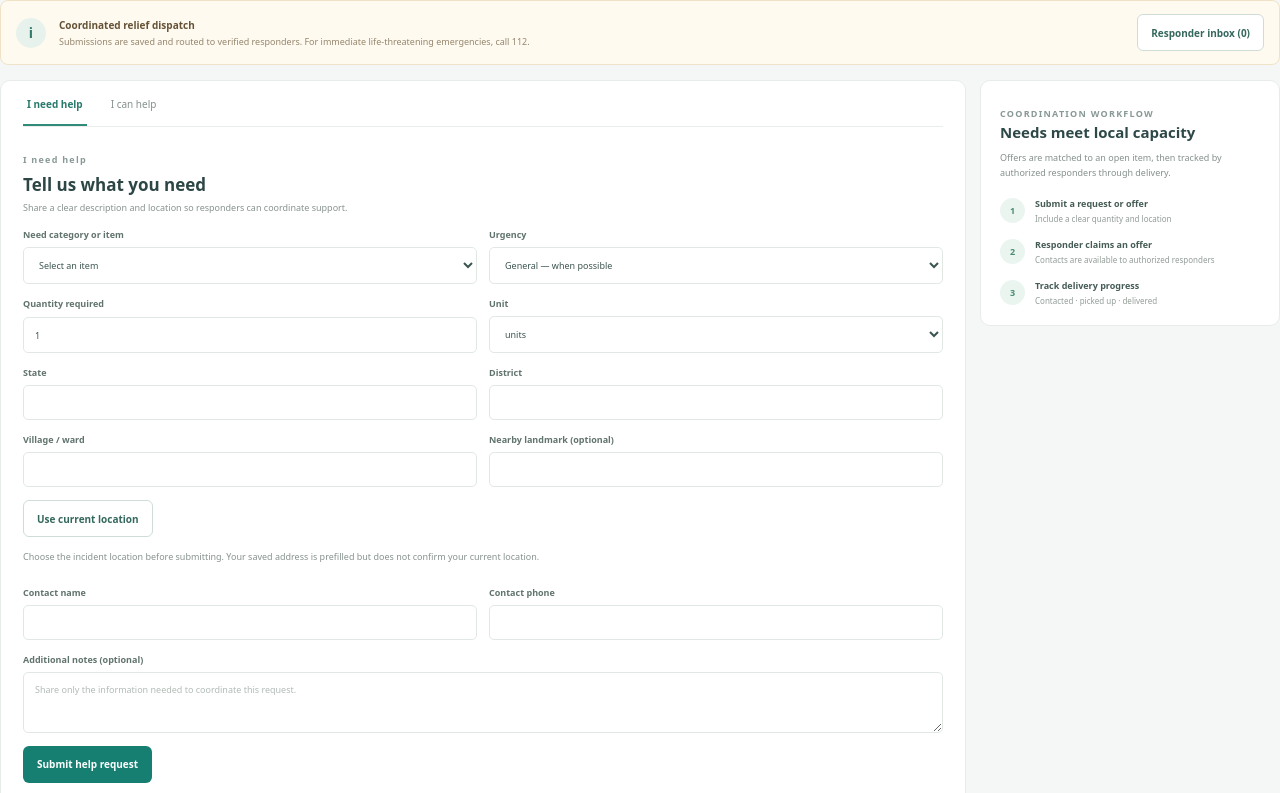
community support coordination › submits a geocoded, quantity-bearing help request
Select "Drinking Water" in the dropdown labelled "Need category or item" at coordinates (250, 266), box [23, 247, 477, 284]
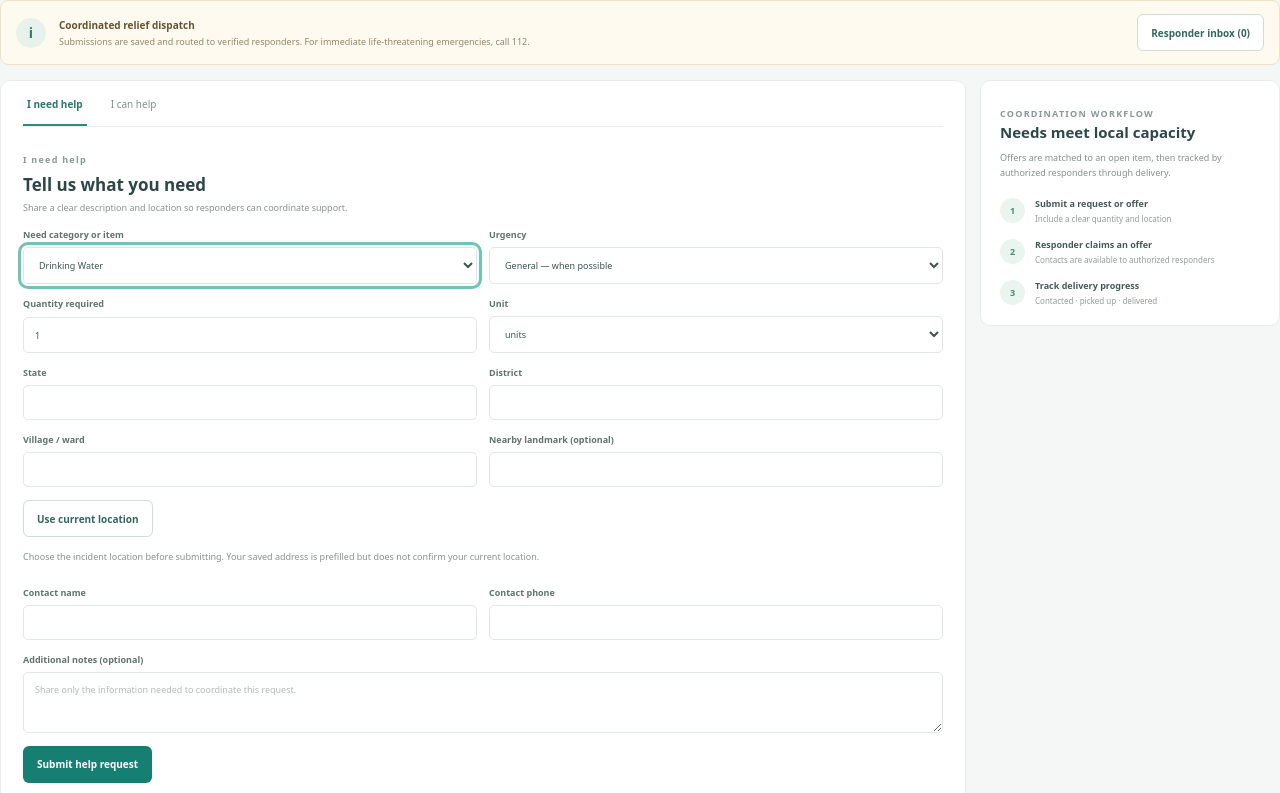
Click the button "Use current location" at coordinates (88, 518), box [23, 500, 153, 537]
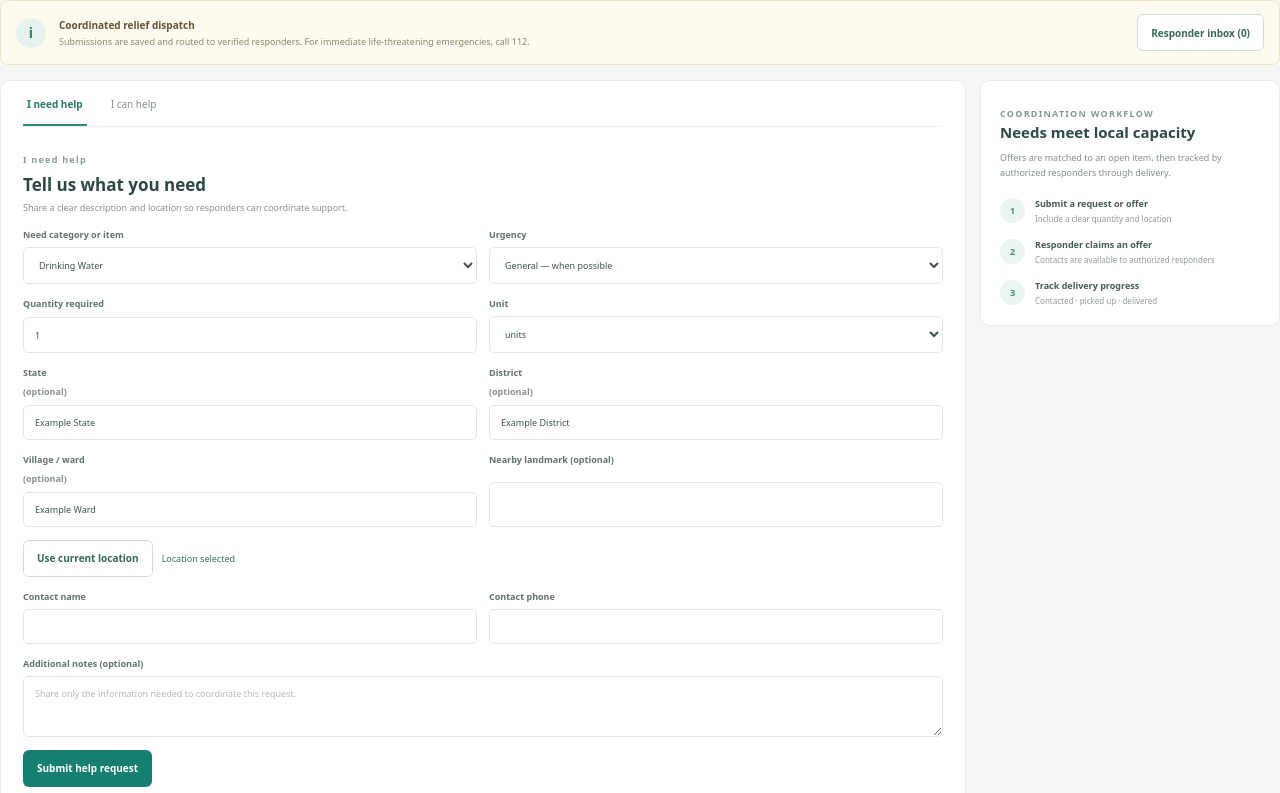
Expected: the field labelled "State" holds "Example State", [23, 405, 477, 440]
Expected: the field labelled "District" holds "Example District", [489, 405, 943, 440]
Expected: the field labelled "Village / ward" holds "Example Ward", [23, 492, 477, 527]
Type "Requester" into the field labelled "Contact name" at coordinates (250, 626), box [23, 609, 477, 644]
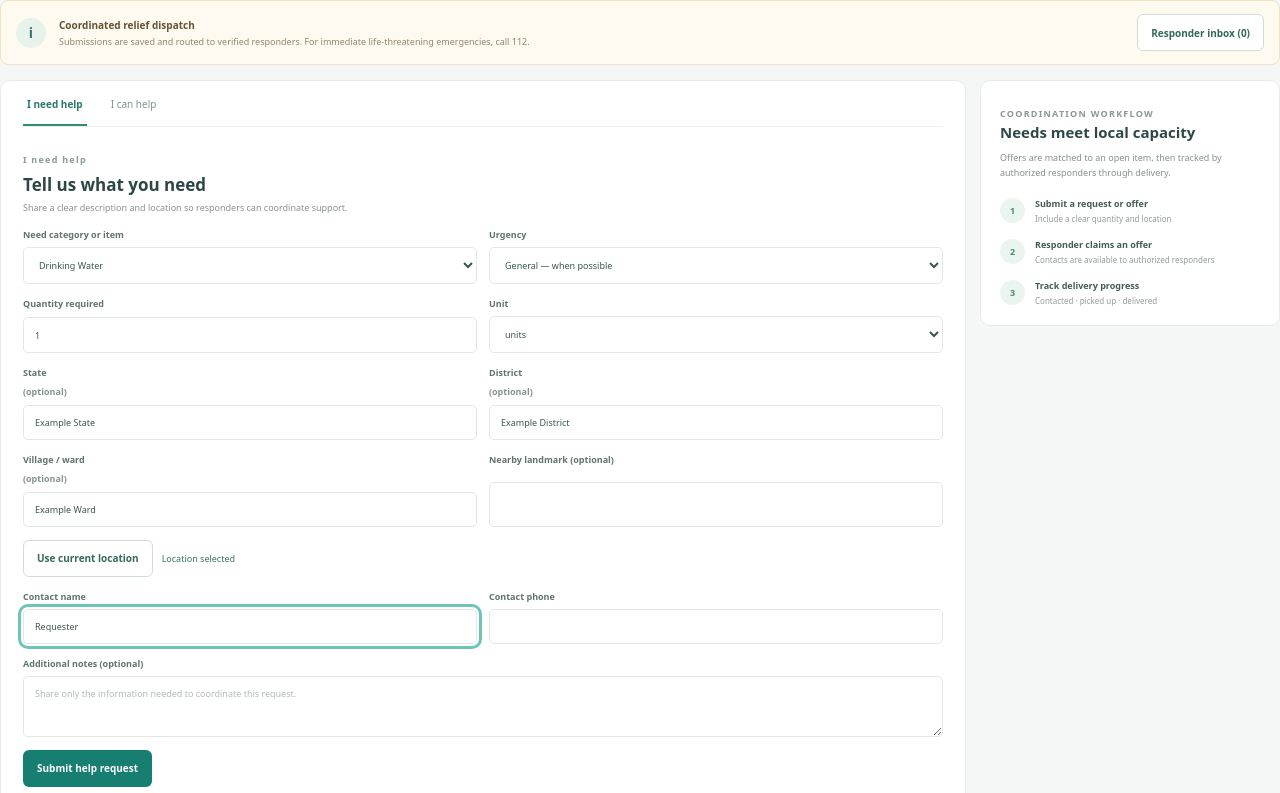
Type "+911234567890" into the field labelled "Contact phone" at coordinates (716, 626), box [489, 609, 943, 644]
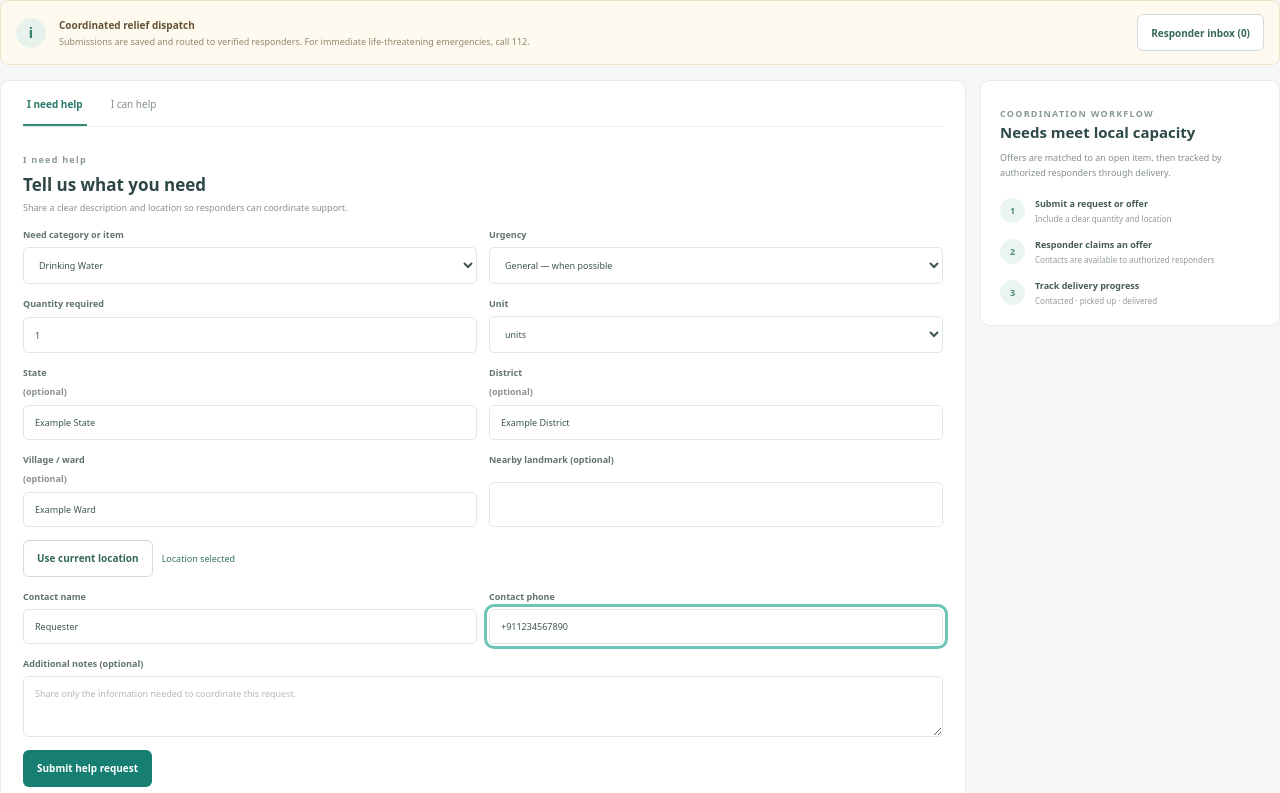
Click the button "Submit help request" at coordinates (88, 768), box [23, 750, 152, 787]
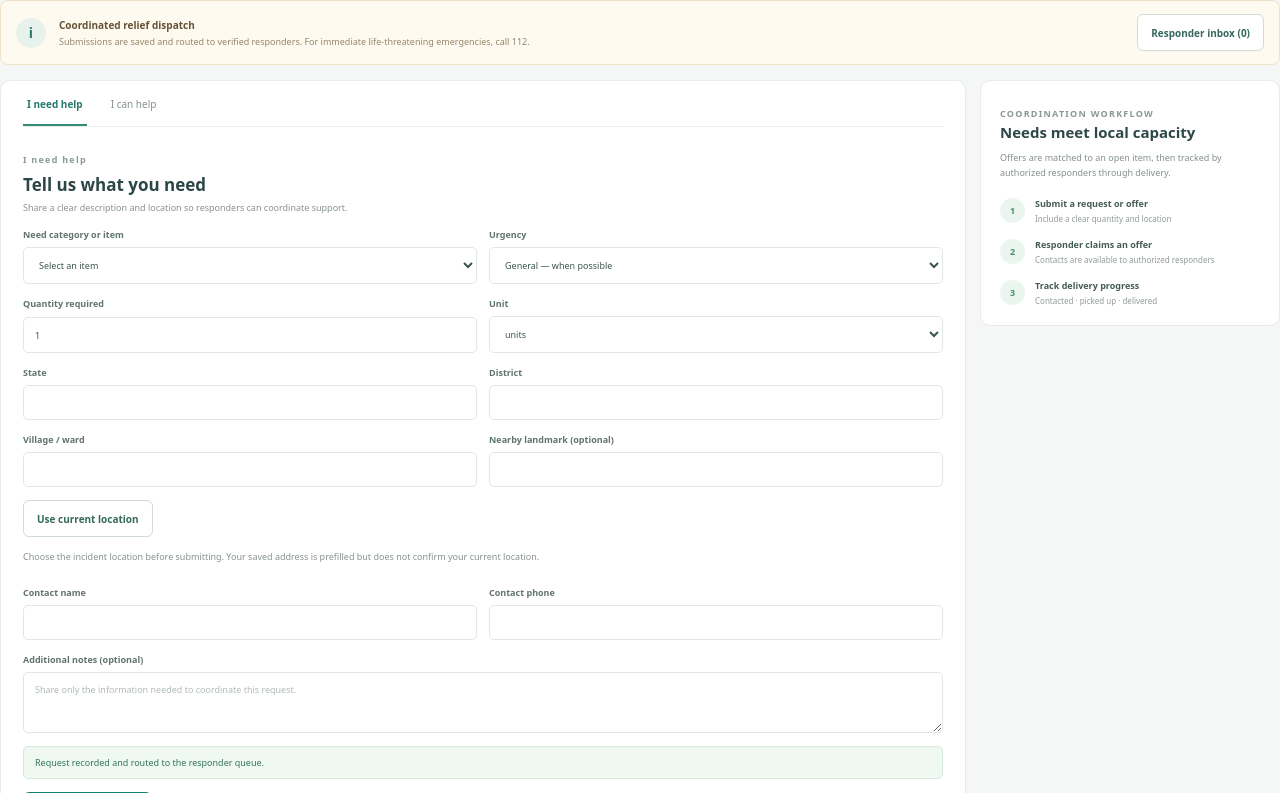
Expected: the text "Request recorded and routed to the responder queue." is shown, [35, 756, 264, 769]
